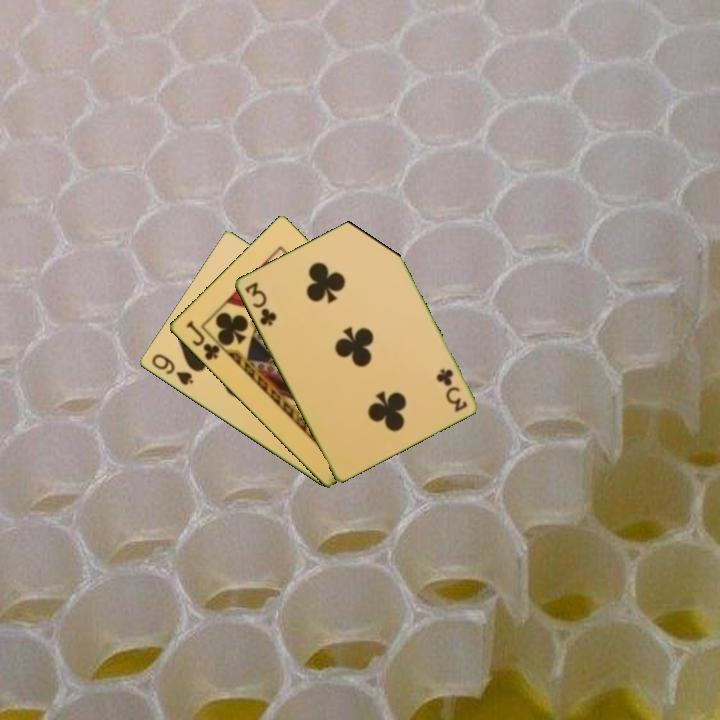3c: (241, 278, 279, 329), (433, 365, 470, 415)
9s: (147, 350, 196, 388)
Jc: (182, 317, 222, 363)
